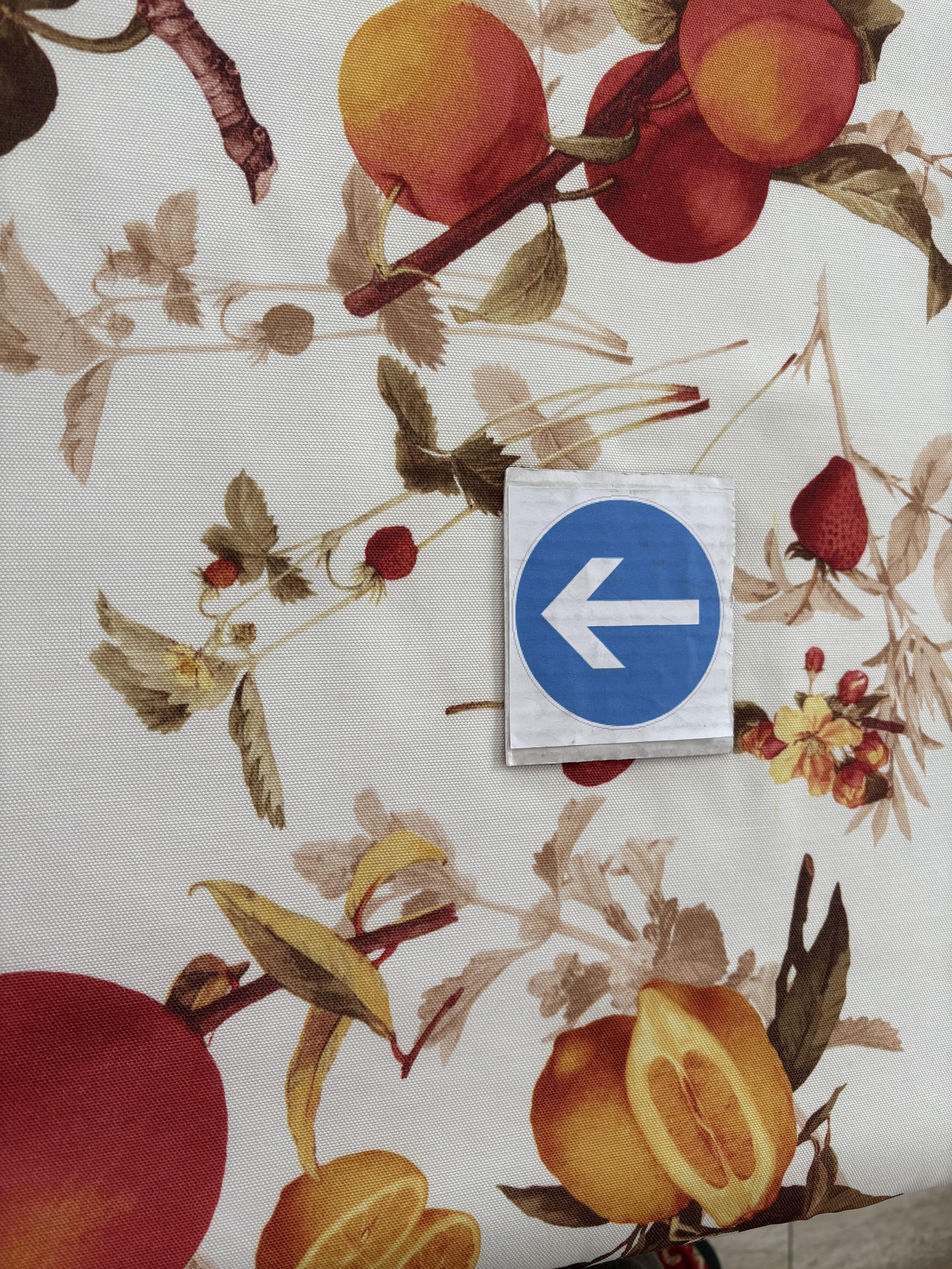Proceed Left: (507, 478, 739, 757)
